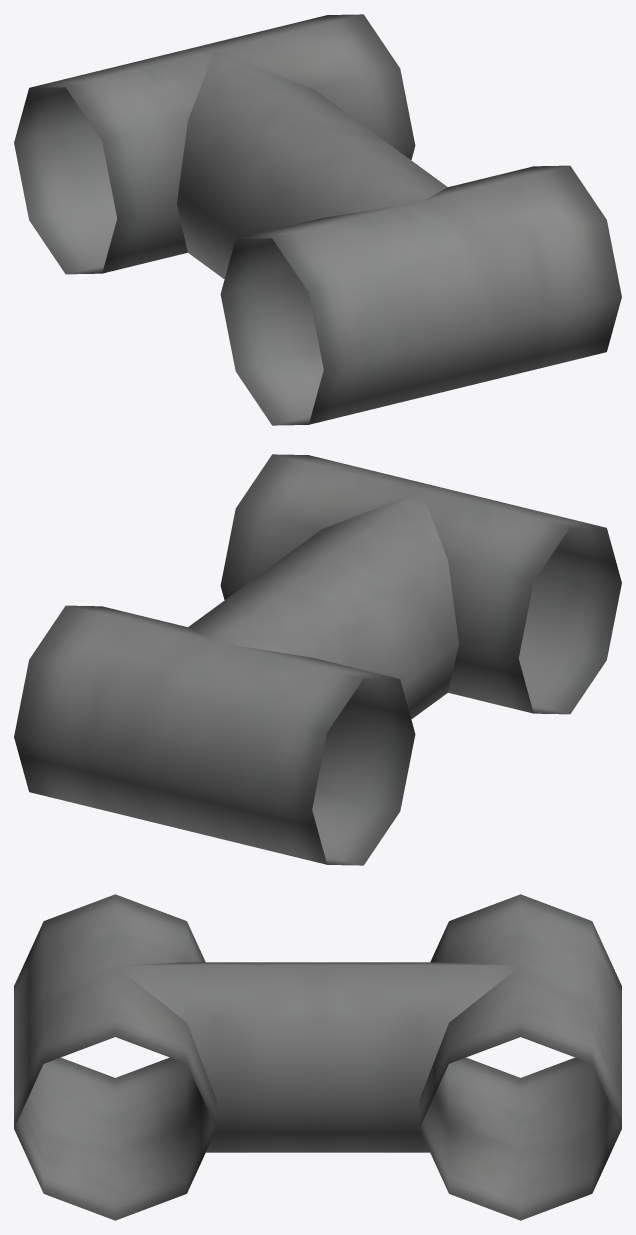
The model's file is eridani_satellite_antenna_srf_1_neck_hinge.obj.
3 renders of one model, top to bottom at view 1: azimuth 30°, elevation 25°; view 2: azimuth 150°, elevation 25°; view 3: azimuth 270°, elevation 25°, orthographic.
Visible parts, largest first — view 1: mesh1; view 2: mesh1; view 3: mesh1.
Boxes of the visible parts, x1,y1,x2,y2 form: mesh1: [14, 14, 621, 425]; mesh1: [14, 454, 621, 865]; mesh1: [14, 894, 621, 1220].
Bounding box in the file's own units: 0.125 × 0.075 × 0.225.
Materials: 1 (1 with a texture image).
